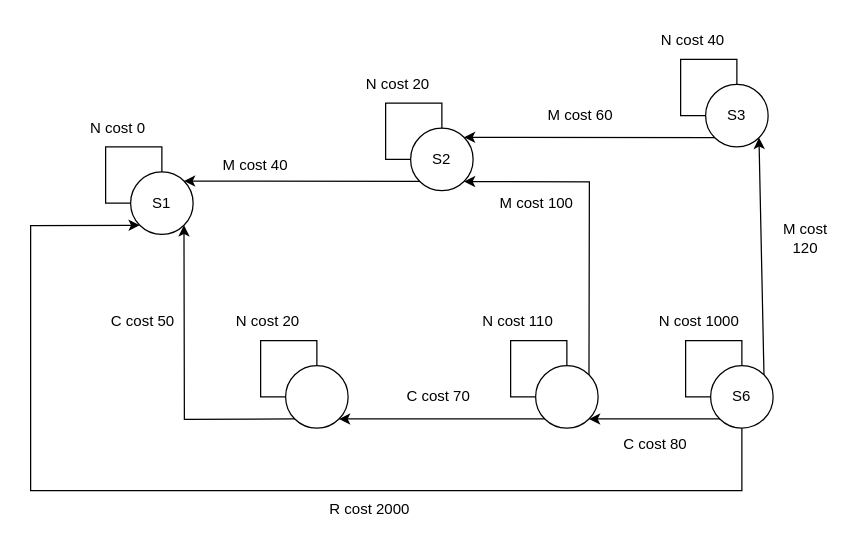
Some shapes in this 865 by 549 pixel diagram are drawn without their labels. Here are the shapes that lost their labels. From the top down, the centre of each, then its label:
At (316,396): "S4".
At (566,396): "S5".
